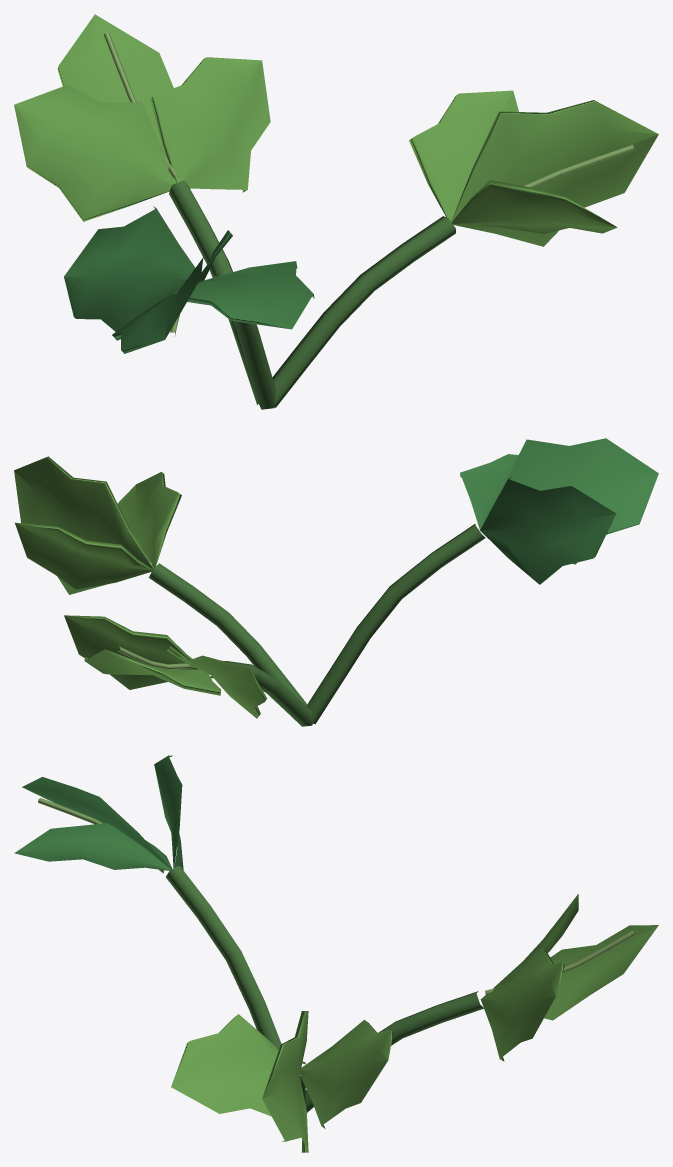
Rendered from fresa_1.glb.
The picture shows the model from 3 angles, top to bottom: view 1: azimuth 30°, elevation 25°; view 2: azimuth 150°, elevation 25°; view 3: azimuth 270°, elevation 25°; orthographic projection. The views are drawn at different scales.
Parts seen in each view (by area): view 1: fresa_1_roseta_0; view 2: fresa_1_roseta_0; view 3: fresa_1_roseta_0.
Boxes of the visible parts, box(x1,y1,x2,y2) form: fresa_1_roseta_0: box(14, 14, 658, 409); fresa_1_roseta_0: box(14, 438, 658, 726); fresa_1_roseta_0: box(14, 755, 658, 1152).
Bounding box in the file's own units: 0.4679 × 0.2018 × 0.4566.
